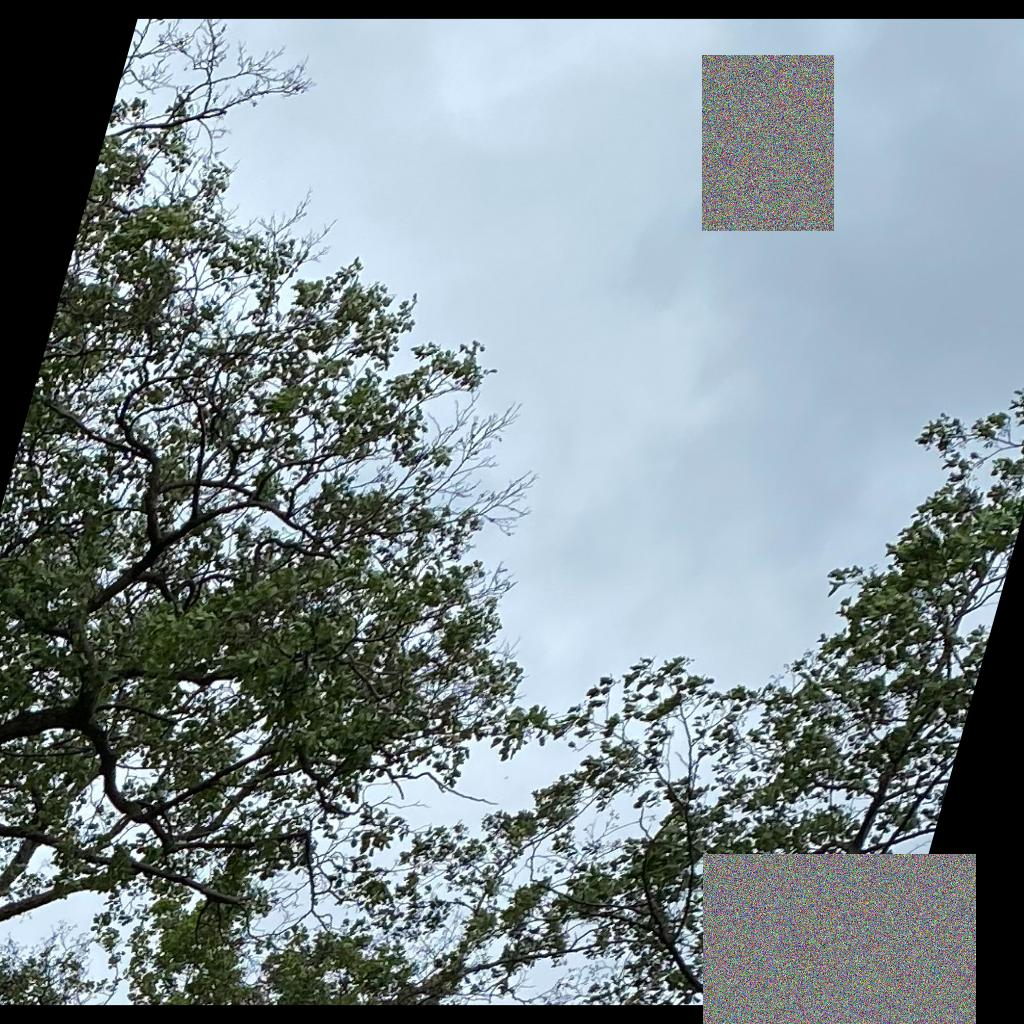tree: (1, 17, 576, 990), (378, 390, 1024, 1006), (1, 850, 465, 1004)
